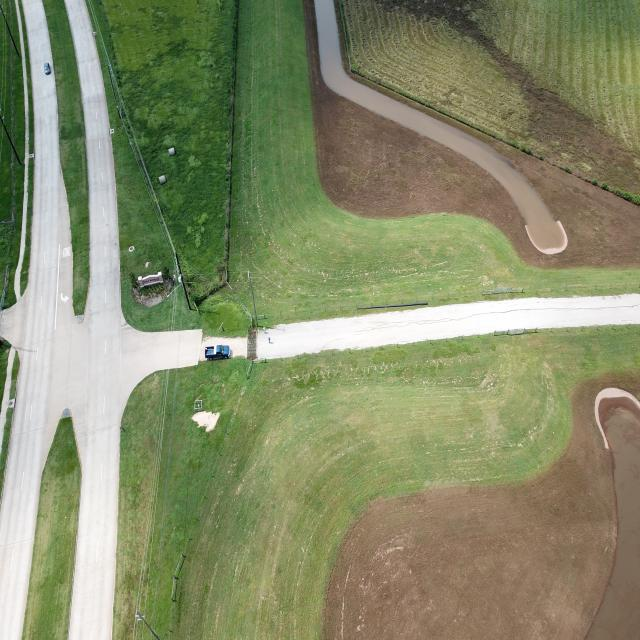fire: (315, 0, 569, 254), (588, 388, 640, 640)
